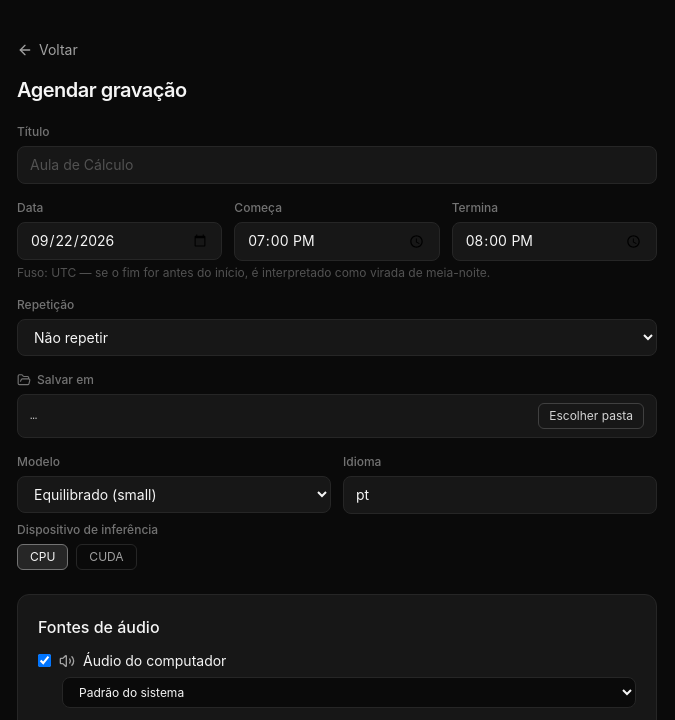
Scenario: ScheduleForm › recusa salvar sem pasta escolhida
This screenshot has width=675, height=720.
Type "Aula de Teste" into the field with placeholder "Aula de Cálculo".
click(337, 165); type("Aula de Teste")  # box [17,146,657,184]
(page scrolled)
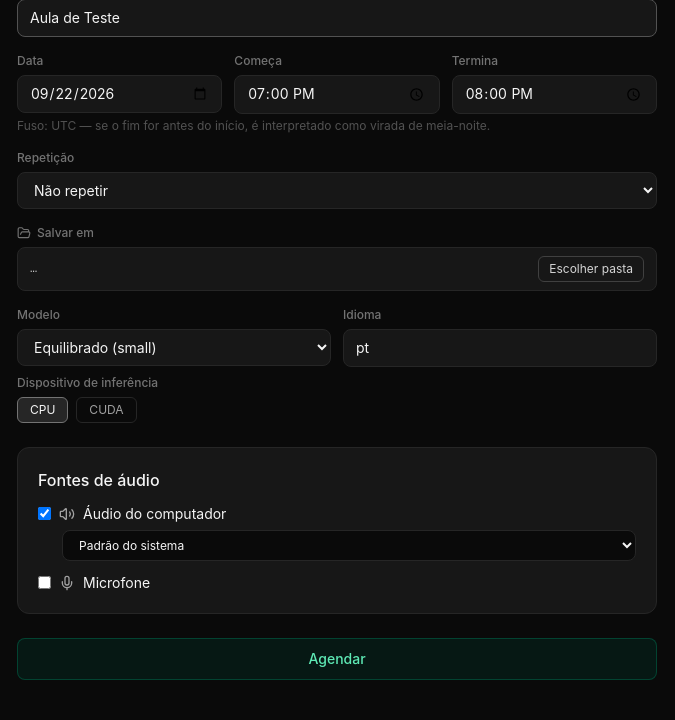
Click the button "Agendar".
click(337, 659)  # box [17,638,657,680]
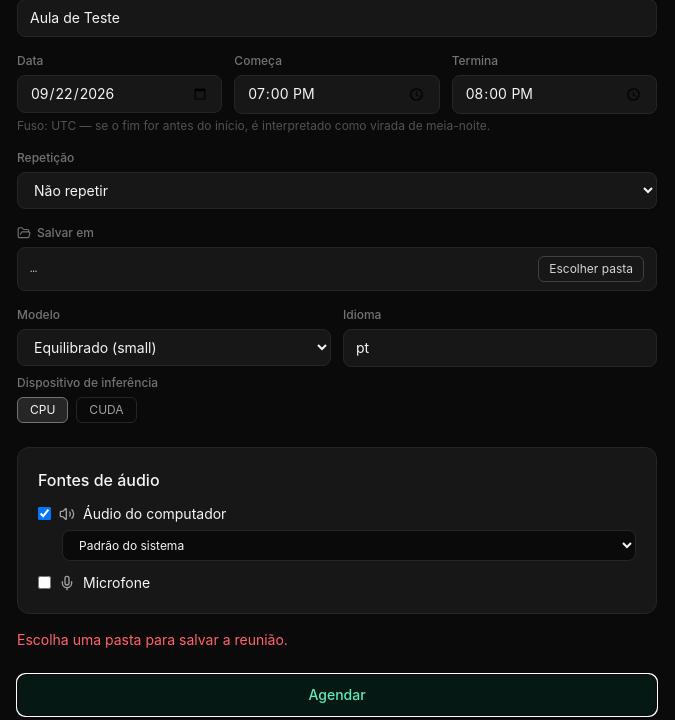
Check: the text "Escolha uma pasta para salvar a reunião." is shown, box [17,631,288,648]
